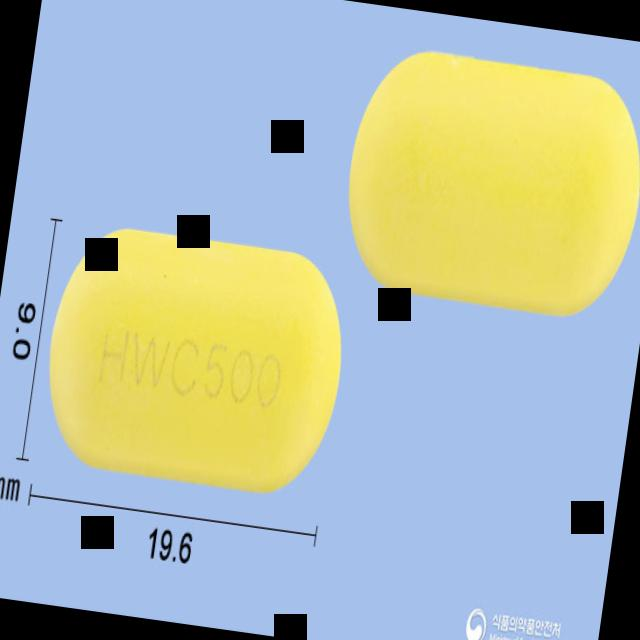Clacid: (29, 208, 364, 514)
